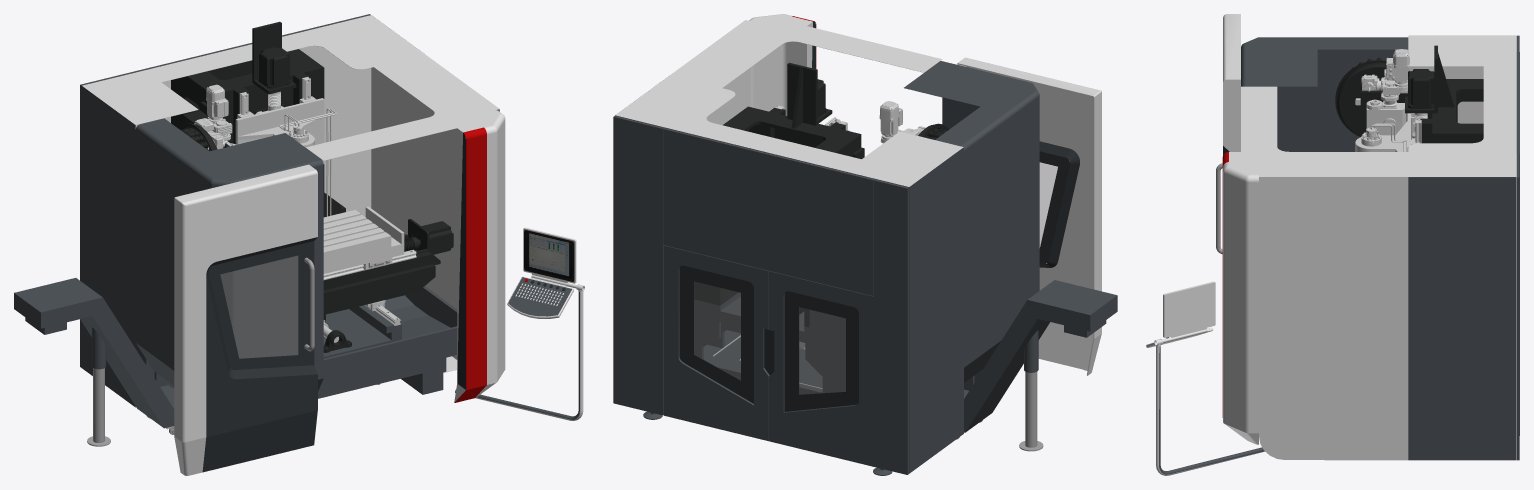
File: milling.glb
3 renders of one model, left to right at view 1: azimuth 30°, elevation 25°; view 2: azimuth 150°, elevation 25°; view 3: azimuth 270°, elevation 25°, orthographic.
Visible parts, largest first — view 1: CNC_Machine_with_Doors_mesh106_184, CNC_Machine_with_Doors_mesh72_176, CNC_Machine_with_Doors_mesh76_192, CNC_Machine_with_Doors_mesh100_230, CNC_Machine_with_Doors_mesh179_180, CNC_Machine_with_Doors_mesh103_232, CNC_Machine_with_Doors_mesh88_206, CNC_Machine_with_Doors_mesh135_336, CNC_Machine_with_Doors_mesh105_238, CNC_Machine_with_Doors_mesh121_246, spindel_support, CNC_Machine_with_Doors_mesh44_104 (+3 smaller); view 2: CNC_Machine_with_Doors_mesh132_272, CNC_Machine_with_Doors_mesh106_184, CNC_Machine_with_Doors_mesh76_192, CNC_Machine_with_Doors_mesh72_176, CNC_Machine_with_Doors_mesh101_194, CNC_Machine_with_Doors_mesh85_204, CNC_Machine_with_Doors_mesh179_180, CNC_Machine_with_Doors_mesh103_232, CNC_Machine_with_Doors_mesh100_230, CNC_Machine_with_Doors_mesh73_186, CNC_Machine_with_Doors_mesh37_90; view 3: CNC_Machine_with_Doors_mesh106_184, CNC_Machine_with_Doors_mesh74_188, CNC_Machine_with_Doors_mesh76_192, CNC_Machine_with_Doors_mesh88_206, CNC_Machine_with_Doors_mesh103_232, CNC_Machine_with_Doors_mesh72_176, CNC_Machine_with_Doors_mesh91_214, spindel_support, CNC_Machine_with_Doors_mesh101_194, CNC_Machine_with_Doors_mesh37_90, CNC_Machine_with_Doors_mesh44_104, CNC_Machine_with_Doors_mesh41_96 (+3 smaller).
Boxes of the visible parts, x1=… form: CNC_Machine_with_Doors_mesh106_184: x1=81, y1=15, x2=505, y2=407; CNC_Machine_with_Doors_mesh72_176: x1=174, y1=164, x2=317, y2=475; CNC_Machine_with_Doors_mesh76_192: x1=135, y1=118, x2=323, y2=391; CNC_Machine_with_Doors_mesh100_230: x1=135, y1=286, x2=457, y2=398; CNC_Machine_with_Doors_mesh179_180: x1=14, y1=278, x2=174, y2=428; CNC_Machine_with_Doors_mesh103_232: x1=171, y1=21, x2=345, y2=217; CNC_Machine_with_Doors_mesh88_206: x1=455, y1=227, x2=584, y2=420; CNC_Machine_with_Doors_mesh135_336: x1=463, y1=127, x2=486, y2=389; CNC_Machine_with_Doors_mesh105_238: x1=323, y1=206, x2=404, y2=273; CNC_Machine_with_Doors_mesh121_246: x1=323, y1=234, x2=435, y2=323; spindel_support: x1=235, y1=96, x2=336, y2=216; CNC_Machine_with_Doors_mesh44_104: x1=258, y1=47, x2=290, y2=88; CNC_Machine_with_Doors_mesh132_272: x1=663, y1=128, x2=874, y2=466; CNC_Machine_with_Doors_mesh106_184: x1=615, y1=14, x2=963, y2=473; CNC_Machine_with_Doors_mesh76_192: x1=904, y1=61, x2=1039, y2=382; CNC_Machine_with_Doors_mesh72_176: x1=957, y1=57, x2=1101, y2=375; CNC_Machine_with_Doors_mesh101_194: x1=613, y1=116, x2=663, y2=415; CNC_Machine_with_Doors_mesh85_204: x1=873, y1=179, x2=908, y2=474; CNC_Machine_with_Doors_mesh179_180: x1=964, y1=280, x2=1117, y2=432; CNC_Machine_with_Doors_mesh103_232: x1=694, y1=62, x2=861, y2=327; CNC_Machine_with_Doors_mesh100_230: x1=694, y1=292, x2=982, y2=394; CNC_Machine_with_Doors_mesh73_186: x1=1019, y1=372, x2=1043, y2=451; CNC_Machine_with_Doors_mesh37_90: x1=879, y1=101, x2=903, y2=143; CNC_Machine_with_Doors_mesh106_184: x1=1223, y1=35, x2=1516, y2=460; CNC_Machine_with_Doors_mesh74_188: x1=1408, y1=177, x2=1516, y2=460; CNC_Machine_with_Doors_mesh76_192: x1=1241, y1=37, x2=1408, y2=151; CNC_Machine_with_Doors_mesh88_206: x1=1146, y1=281, x2=1264, y2=475; CNC_Machine_with_Doors_mesh103_232: x1=1405, y1=45, x2=1483, y2=143; CNC_Machine_with_Doors_mesh72_176: x1=1216, y1=14, x2=1240, y2=254; CNC_Machine_with_Doors_mesh91_214: x1=1335, y1=60, x2=1409, y2=136; spindel_support: x1=1355, y1=113, x2=1419, y2=151; CNC_Machine_with_Doors_mesh101_194: x1=1516, y1=153, x2=1519, y2=460; CNC_Machine_with_Doors_mesh37_90: x1=1381, y1=49, x2=1409, y2=99; CNC_Machine_with_Doors_mesh44_104: x1=1408, y1=69, x2=1434, y2=108; CNC_Machine_with_Doors_mesh41_96: x1=1366, y1=102, x2=1406, y2=135.
Size of the model in its own units: 4.33 by 3.21 by 3.12.
12 materials, 1 textured.
